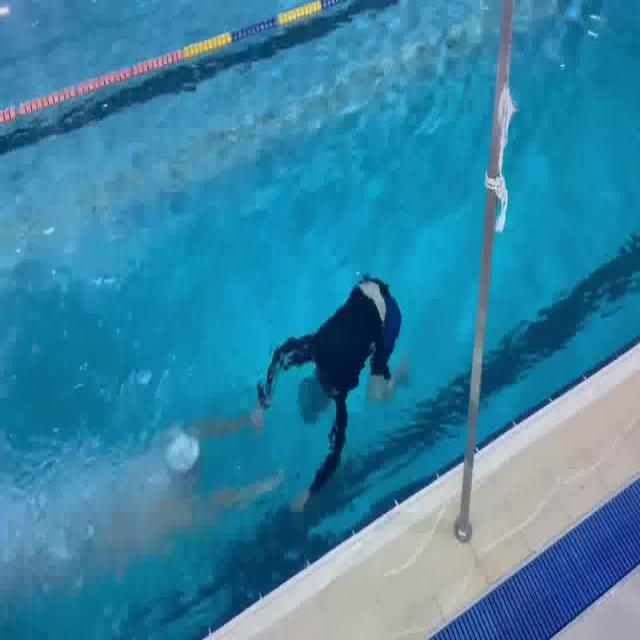Drowning: (251, 268, 422, 516)
Swimming: (74, 404, 284, 534)
